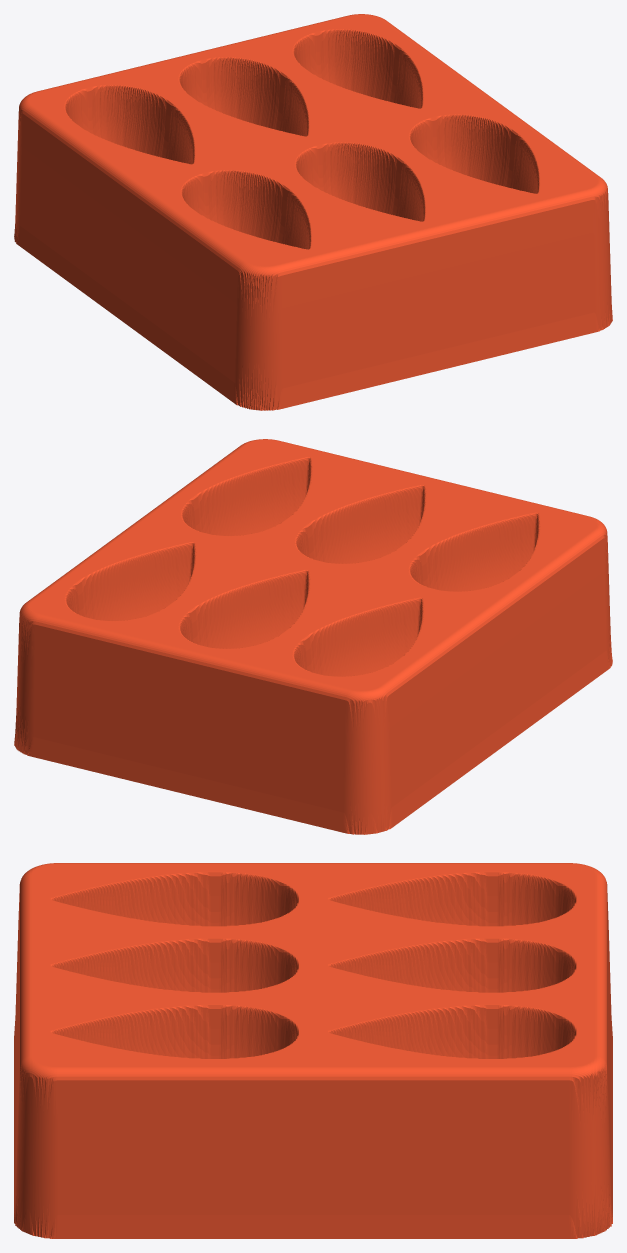
File: mold.glb
The picture shows the model from 3 angles, top to bottom: view 1: azimuth 30°, elevation 25°; view 2: azimuth 150°, elevation 25°; view 3: azimuth 270°, elevation 25°; orthographic projection. The views are drawn at different scales.
Visible parts, largest first — view 1: geometry_0; view 2: geometry_0; view 3: geometry_0.
Boxes of the visible parts, x1,y1,x2,y2 form: geometry_0: (14,14,612,410); geometry_0: (14,439,612,834); geometry_0: (14,863,612,1238).
Bounding box in the file's own units: 0.1072 × 0.0377 × 0.1246.
